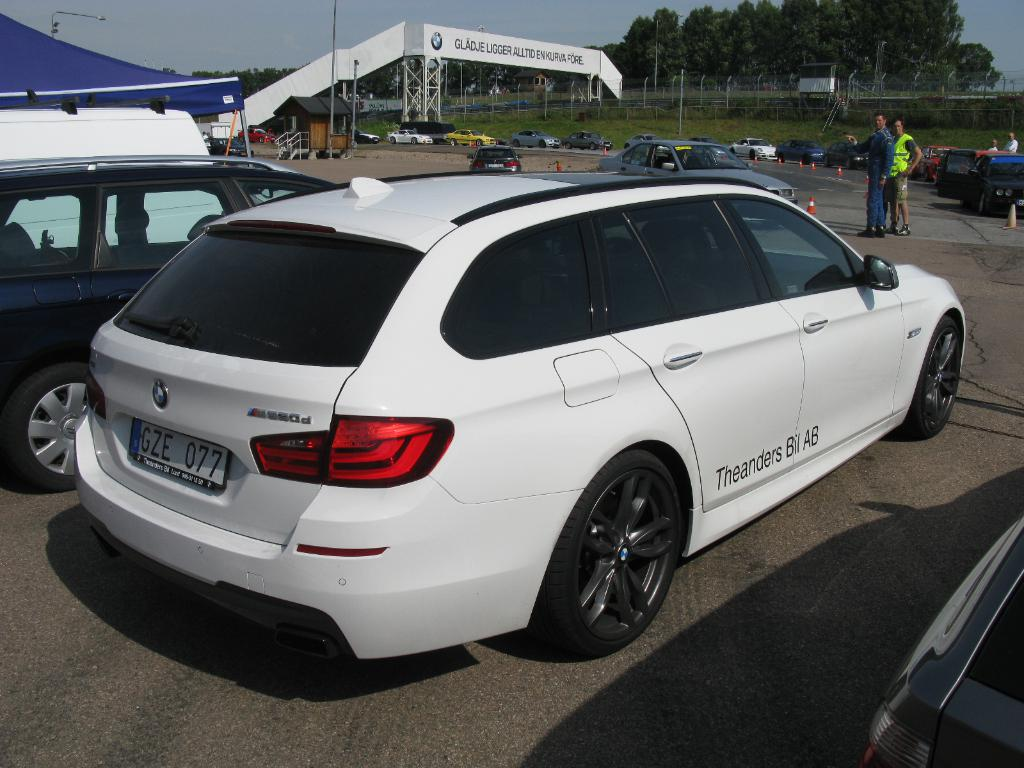license plate: (136, 416, 238, 459)
